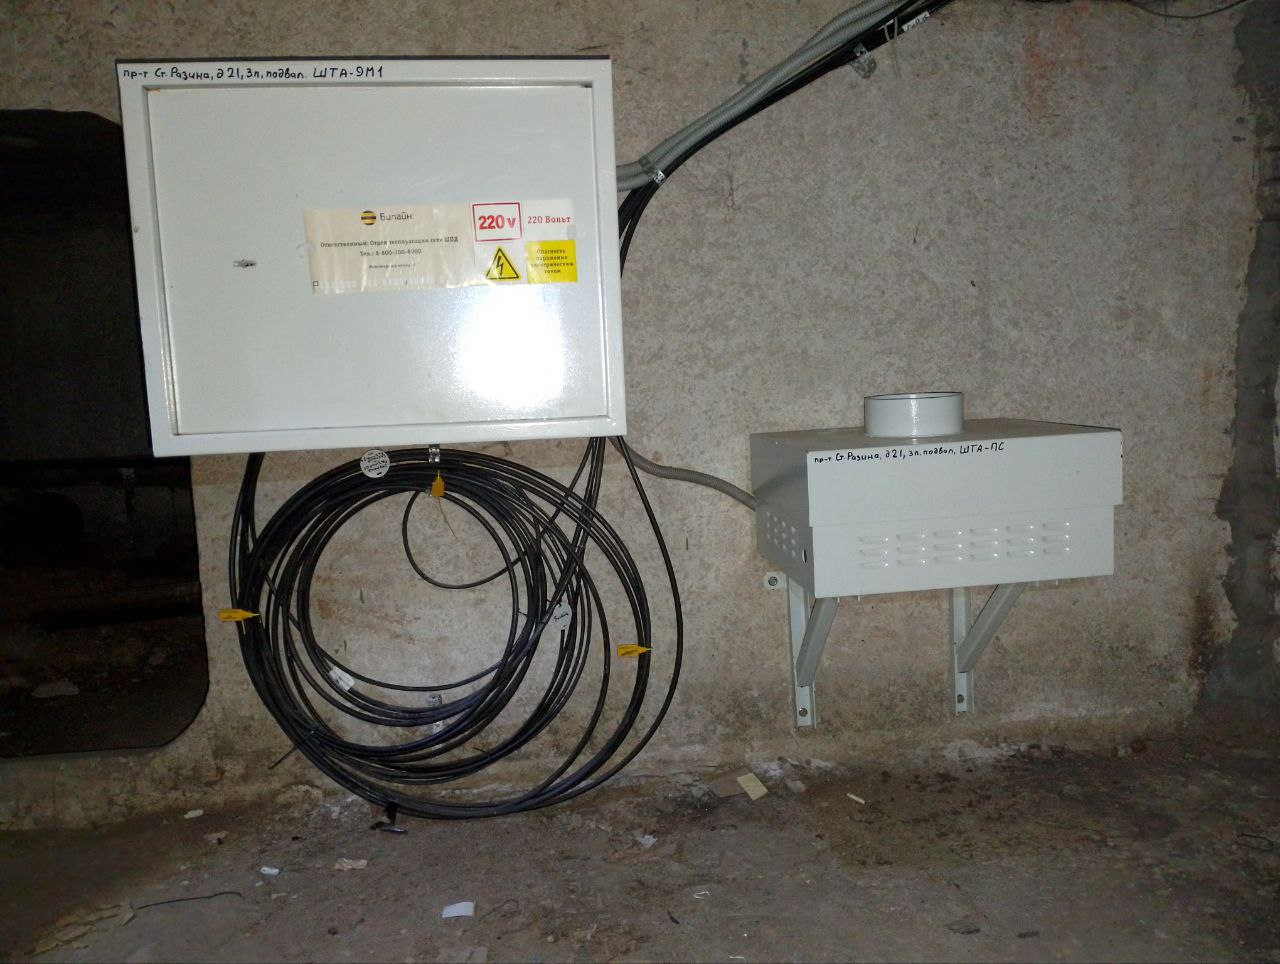shta-9m: (102, 52, 630, 460)
shta-ps: (746, 385, 1128, 605)
